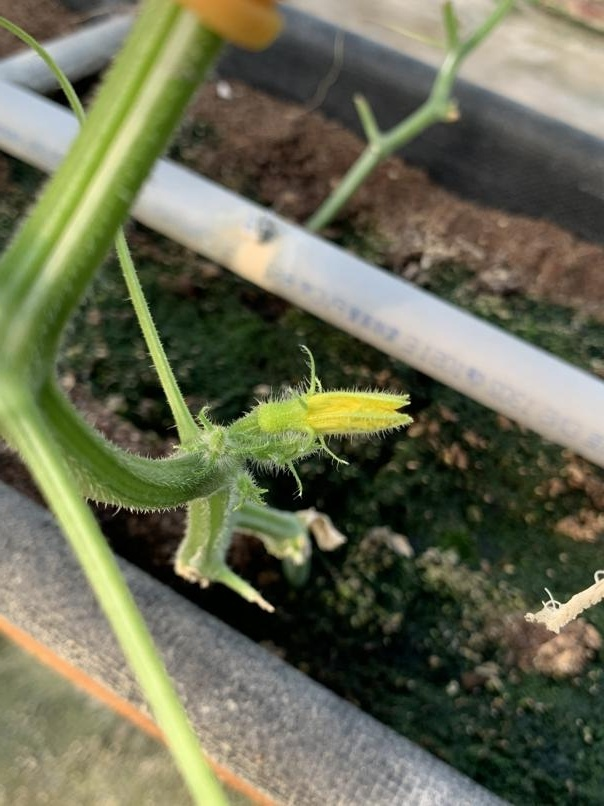bud: (225, 384, 411, 462)
